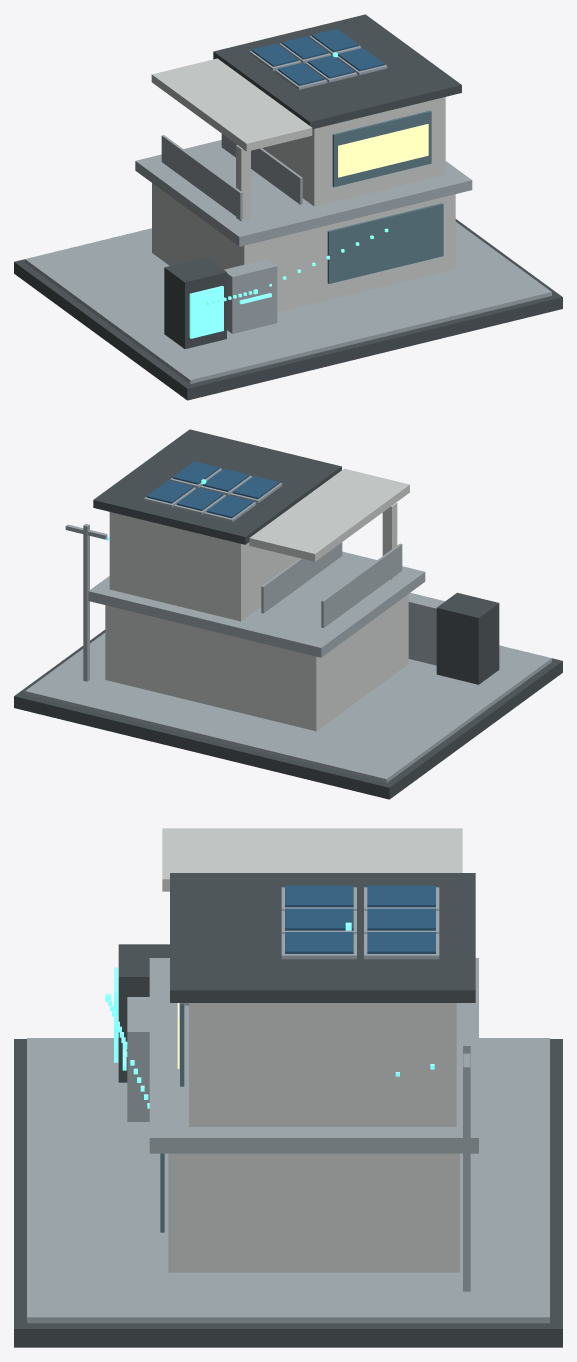
Rendered from solar-house.glb.
3 renders of one model, top to bottom at view 1: azimuth 30°, elevation 25°; view 2: azimuth 150°, elevation 25°; view 3: azimuth 270°, elevation 25°, orthographic. The views are drawn at different scales.
Parts seen in each view (by area): view 1: ground, lower-house, upper-roof, lower-roof, base, terrace-roof, upper-house, front-glass, railing (×2), panel-cell (×6), battery-case, inverter (+4 smaller); view 2: ground, lower-house, upper-house, upper-roof, lower-roof, base, terrace-roof, battery-case, railing (×2), panel-cell (×6), inverter, grid-pole (+1 smaller); view 3: ground, lower-house, upper-house, upper-roof, base, lower-roof, terrace-roof, panel-cell (×6), inverter, battery-case, grid-pole.
Boxes of the visible parts, x1,y1,x2,y2 form: ground: (25, 222, 551, 383); lower-house: (152, 183, 455, 312); upper-roof: (213, 14, 461, 129); lower-roof: (135, 140, 472, 246); base: (14, 219, 562, 400); terrace-roof: (151, 58, 312, 151); upper-house: (262, 97, 445, 206); front-glass: (327, 203, 443, 283); railing (×2): (161, 134, 302, 219); panel-cell (×6): (251, 29, 384, 85); battery-case: (164, 257, 226, 348); inverter: (224, 259, 277, 333); ground: (25, 632, 551, 782); lower-house: (105, 594, 408, 731); upper-house: (109, 512, 299, 621); upper-roof: (93, 429, 341, 544); lower-roof: (88, 551, 425, 657); base: (14, 630, 562, 799); terrace-roof: (249, 468, 409, 561); battery-case: (436, 592, 499, 684); railing (×2): (261, 542, 402, 627); panel-cell (×6): (146, 461, 279, 518); inverter: (408, 592, 444, 665); grid-pole: (83, 524, 89, 681); ground: (27, 1038, 549, 1323); lower-house: (168, 1153, 459, 1272); upper-house: (189, 1003, 456, 1126); upper-roof: (170, 873, 475, 1002); base: (14, 1039, 562, 1347); lower-roof: (149, 958, 478, 1153); terrace-roof: (162, 828, 462, 891); panel-cell (×6): (285, 885, 435, 953); inverter: (127, 997, 149, 1121); battery-case: (118, 944, 169, 1082); grid-pole: (463, 1042, 470, 1291).
Bounding box in the file's own units: 4 × 2.12 × 3.2.
